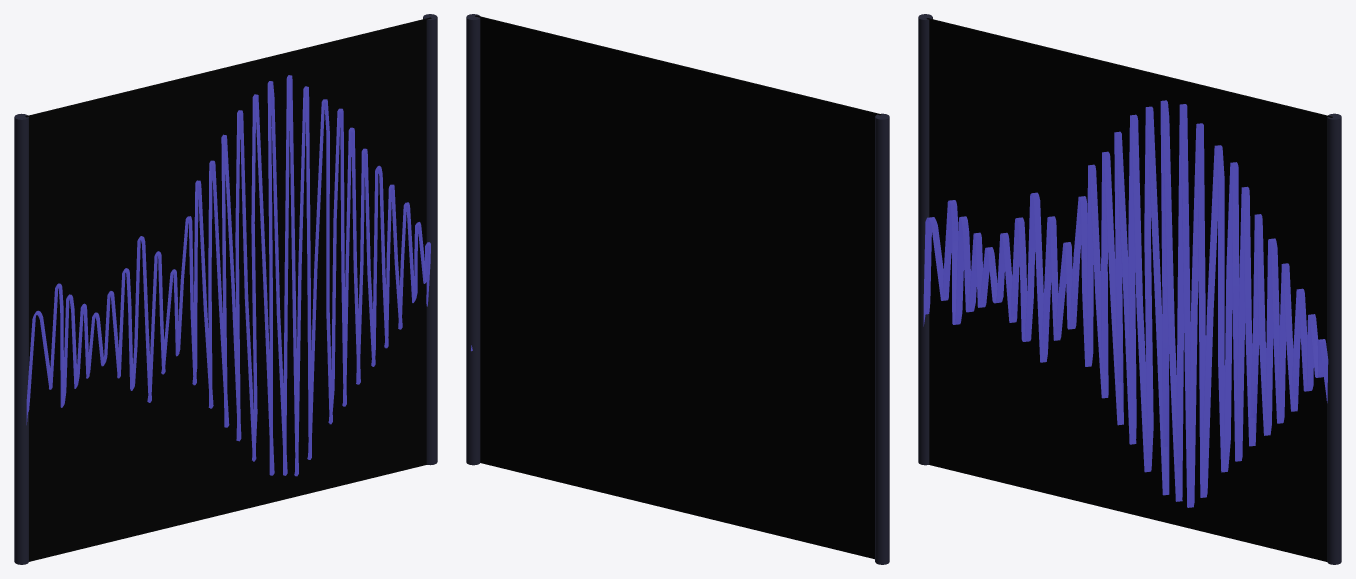
Rendered from Mur_1.fbx.
3 views of the same model, side by side, from view 1: azimuth 30°, elevation 25°; view 2: azimuth 150°, elevation 25°; view 3: azimuth 330°, elevation 25° (orthographic).
Visible parts, largest first — view 1: Mur_1; view 2: Mur_1; view 3: Mur_1.
Part boxes in pixels (x1,y1,x2,y2): Mur_1: (14,14,437,564); Mur_1: (466,14,889,564); Mur_1: (918,14,1341,564).
Size of the model in its own units: 532 by 538 by 23.71.
